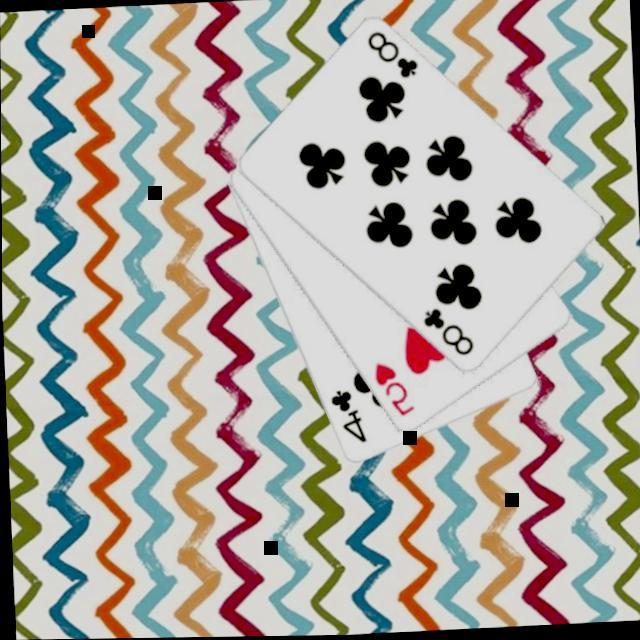4C: (325, 385, 367, 446)
5H: (369, 356, 416, 421)
8C: (417, 301, 475, 360), (362, 26, 421, 84)
